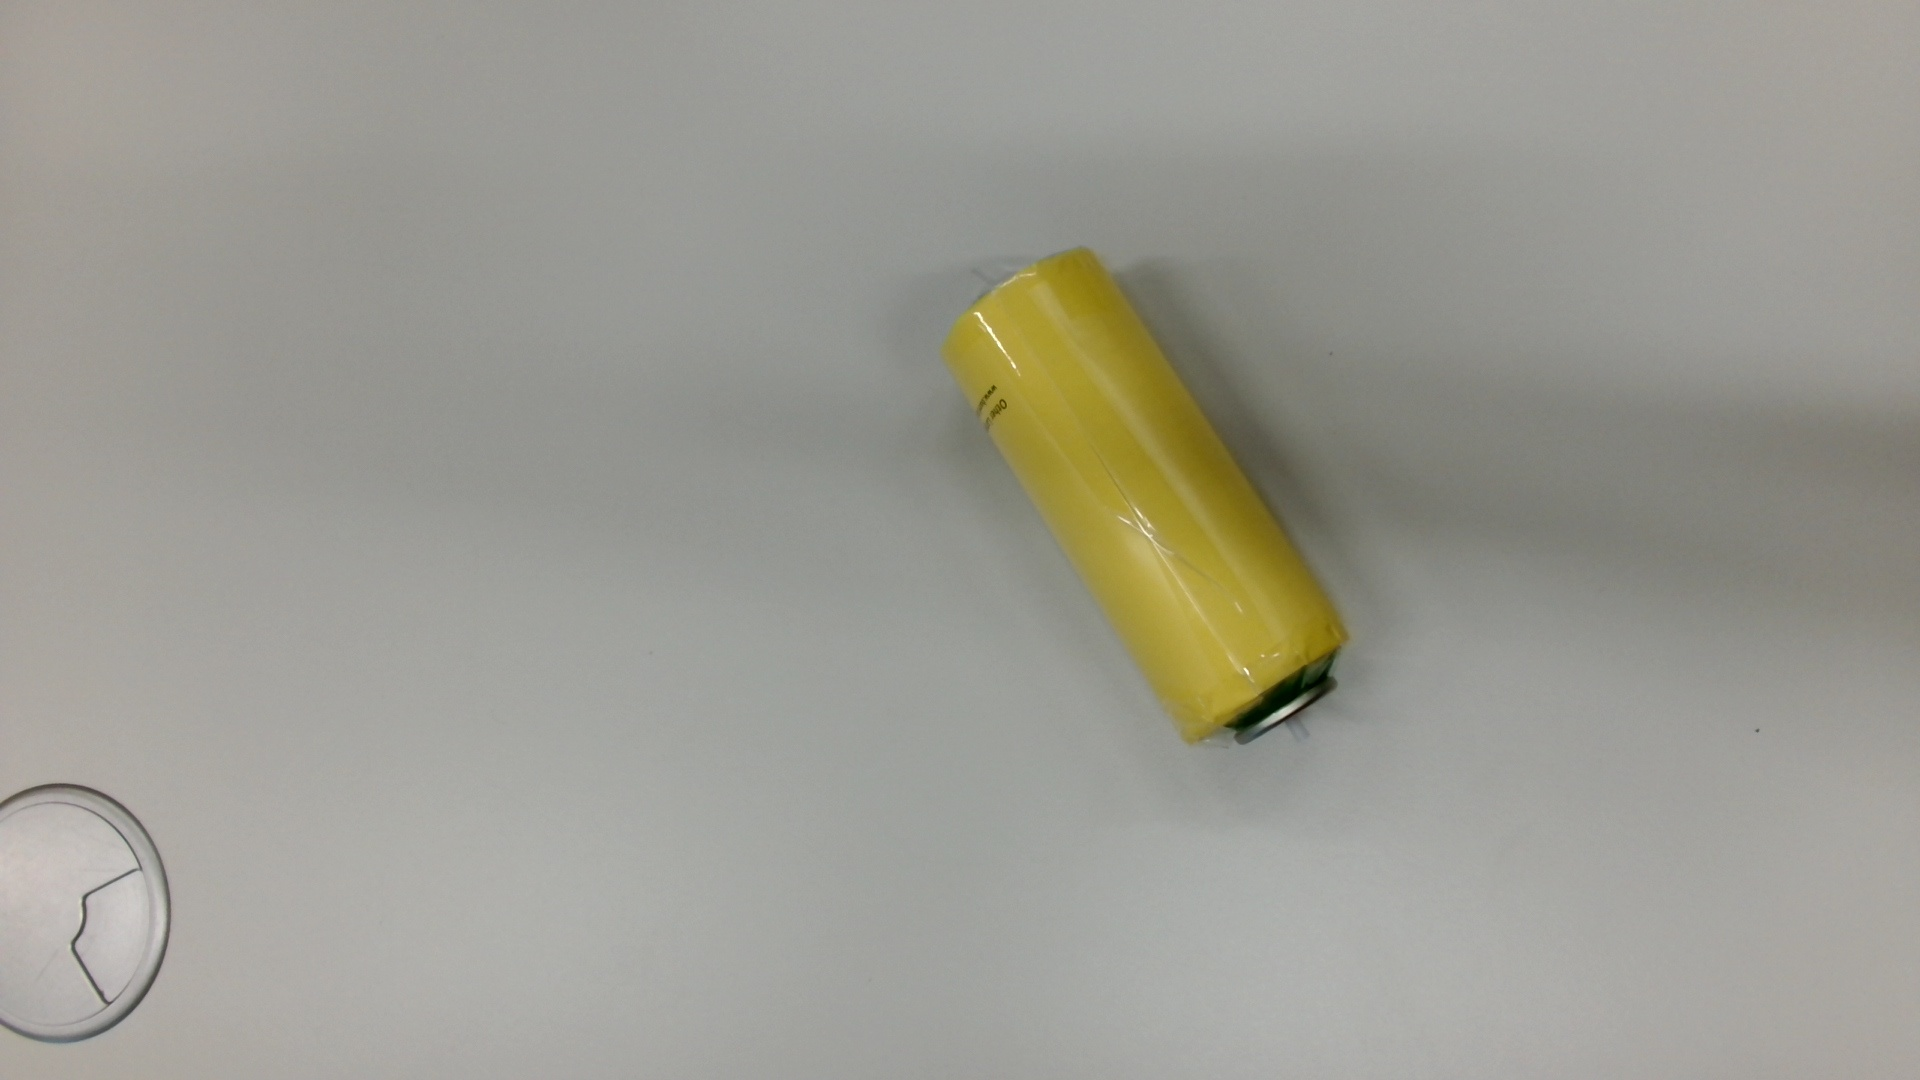Cylinder: (935, 233, 1360, 779)
